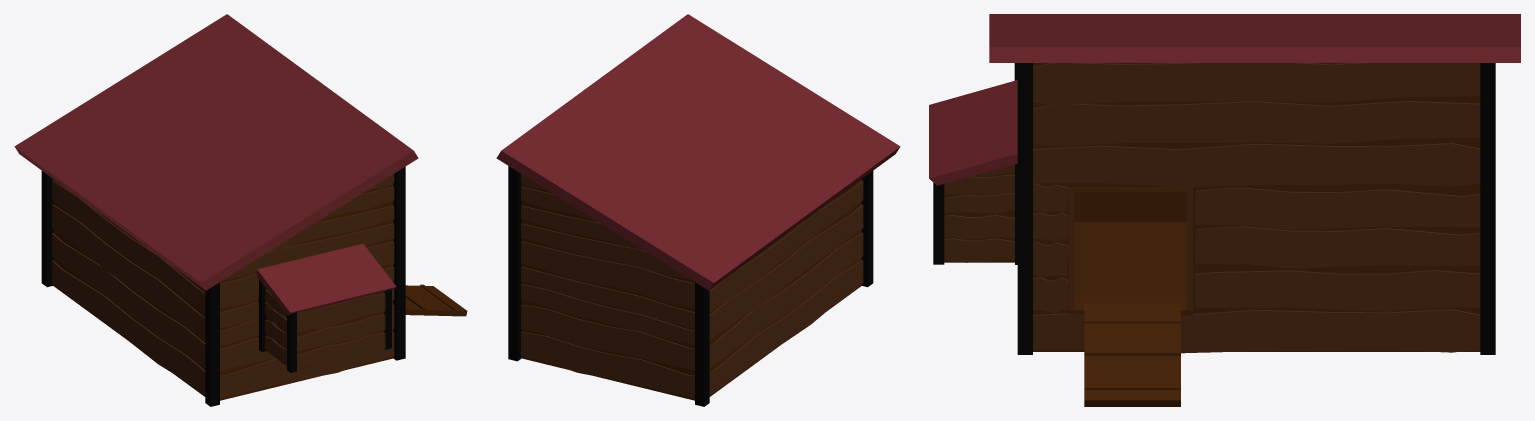
The model's file is Huehnerstall.fbx.
3 renders of one model, left to right at view 1: azimuth 30°, elevation 25°; view 2: azimuth 150°, elevation 25°; view 3: azimuth 270°, elevation 25°, orthographic. The views are drawn at different scales.
Visible parts, largest first — view 1: Daecher, Bretter.001, Beine.001, Anbau, Leiter; view 2: Daecher, Bretter.001, Beine.001, Anbau; view 3: Bretter.001, Daecher, Anbau, Beine.001, Leiter, TuerRahmen.
Part boxes in pixels (x1,y1,x2,y2): Daecher: [14, 14, 418, 315]; Bretter.001: [52, 174, 394, 398]; Beine.001: [41, 166, 405, 406]; Anbau: [53, 179, 393, 400]; Leiter: [405, 284, 467, 316]; Daecher: [496, 14, 900, 290]; Bretter.001: [521, 174, 863, 398]; Beine.001: [508, 166, 873, 406]; Anbau: [521, 179, 861, 400]; Bretter.001: [944, 63, 1480, 353]; Daecher: [929, 14, 1520, 185]; Anbau: [944, 63, 1480, 351]; Beine.001: [933, 63, 1495, 354]; Leiter: [1084, 304, 1180, 406]; TuerRahmen: [1069, 188, 1192, 315].
Bounding box in the file's own units: 646 × 445 × 777.
